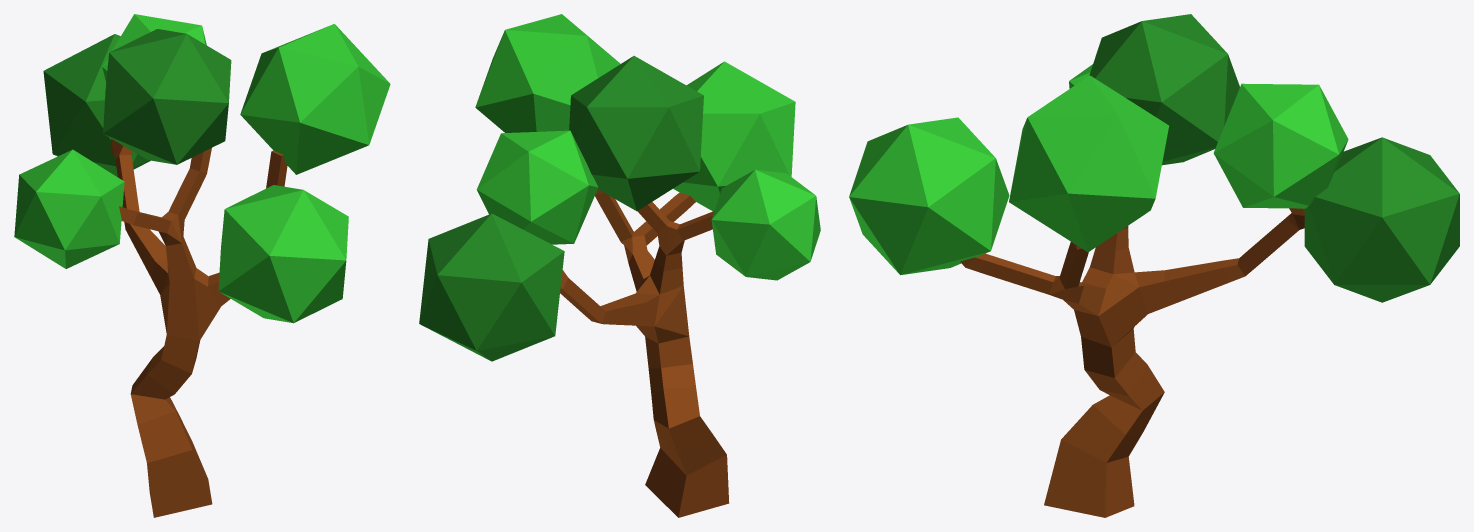
3 renders of one model, left to right at view 1: azimuth 30°, elevation 25°; view 2: azimuth 150°, elevation 25°; view 3: azimuth 270°, elevation 25°, orthographic. The views are drawn at different scales.
Parts seen in each view (by area): view 1: Cube, Icosphere.003, Icosphere.002, Icosphere.004, Icosphere.005, Icosphere, Icosphere.001; view 2: Cube, Icosphere, Icosphere.004, Icosphere.003, Icosphere.002, Icosphere.001, Icosphere.005; view 3: Cube, Icosphere, Icosphere.003, Icosphere.002, Icosphere.004, Icosphere.001.
Boxes of the visible parts, x1,y1,x2,y2 form: Cube: (110, 138, 287, 517); Icosphere.003: (240, 24, 390, 174); Icosphere.002: (218, 185, 348, 323); Icosphere.004: (103, 29, 231, 164); Icosphere.005: (14, 149, 124, 268); Icosphere: (43, 34, 150, 177); Icosphere.001: (102, 14, 206, 82); Cube: (560, 189, 729, 517); Icosphere: (419, 213, 564, 361); Icosphere.004: (569, 56, 703, 211); Icosphere.003: (475, 14, 620, 132); Icosphere.002: (673, 61, 795, 211); Icosphere.001: (476, 130, 598, 244); Icosphere.005: (711, 169, 820, 280); Cube: (960, 208, 1304, 517); Icosphere: (1304, 137, 1459, 302); Icosphere.003: (1009, 75, 1168, 252); Icosphere.002: (849, 117, 1009, 275); Icosphere.004: (1089, 14, 1239, 165); Icosphere.001: (1213, 83, 1348, 208).
Size of the model in its own units: 7.02 by 8.7 by 9.49.
